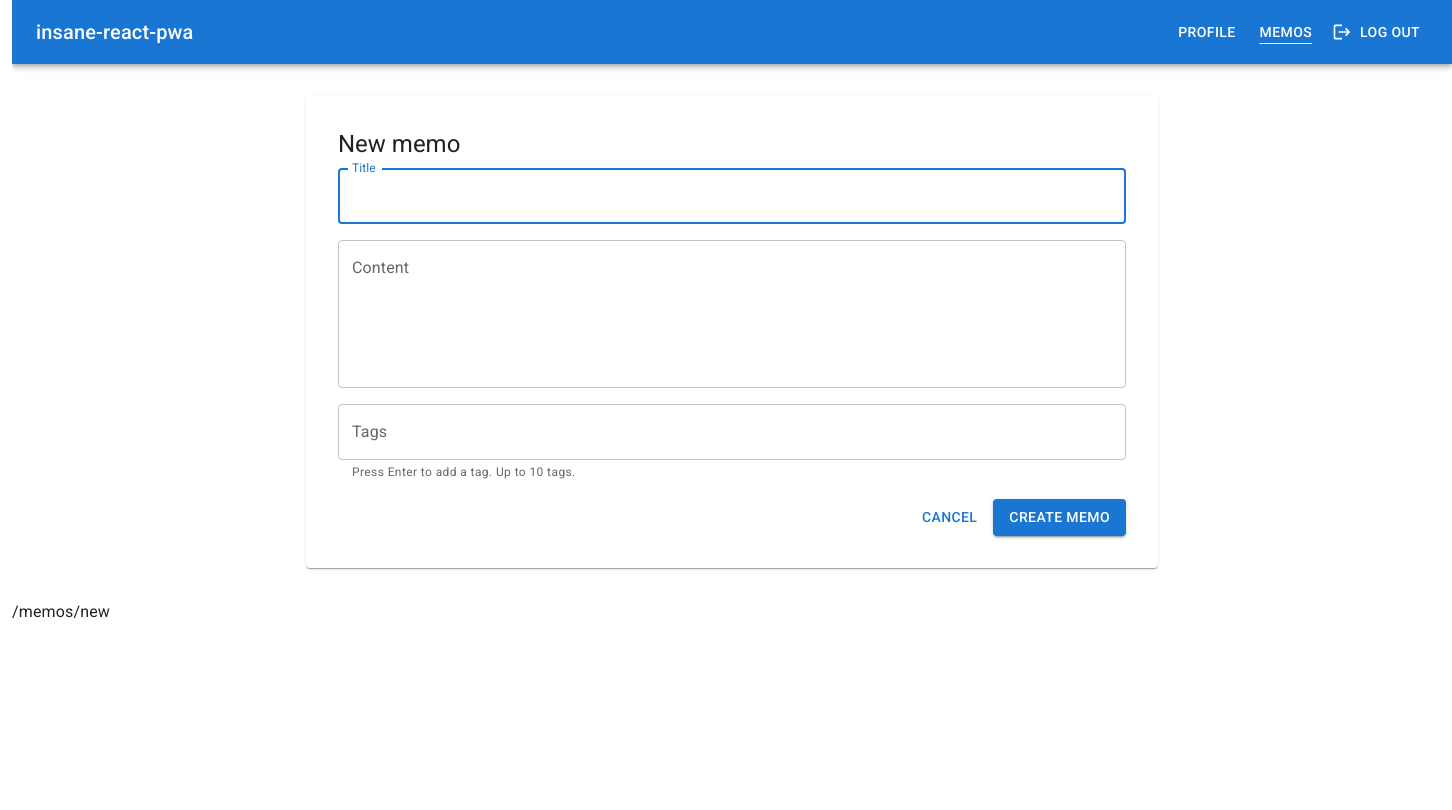
Scenario: CreateMemoPage › suggests tags the user already uses
The width and height of the screenshot is (1452, 810).
Expected: the heading "New memo" is shown, [338,130,460,158]
Click the dropdown labelled "Tags" at (732, 432), box [347,413,1117,451]
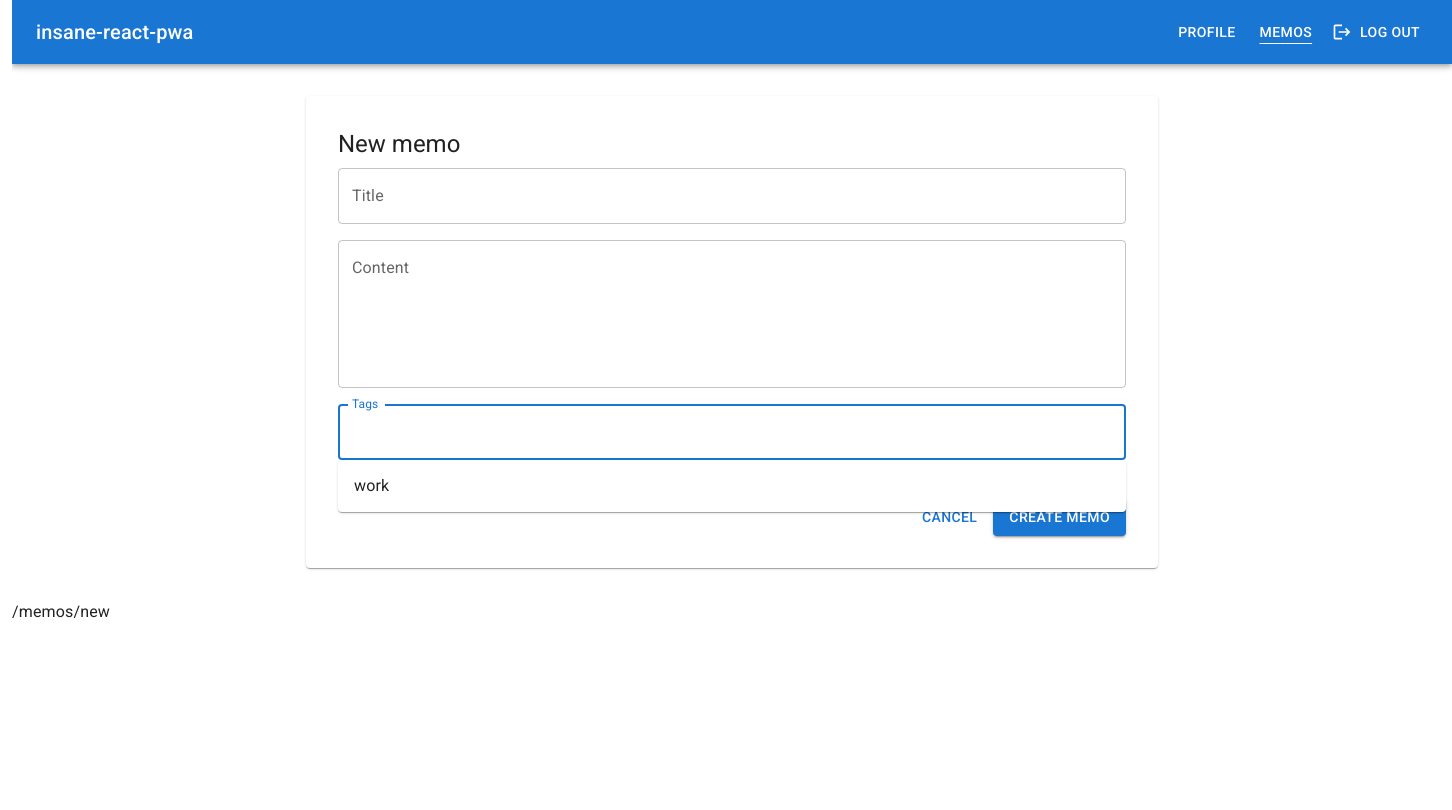
Now the option "work" is shown, box [354,476,389,495]
